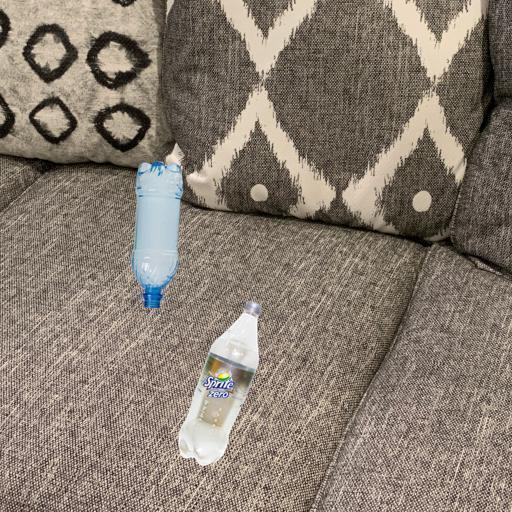bottle: (173, 301, 285, 467), (135, 158, 184, 309)
